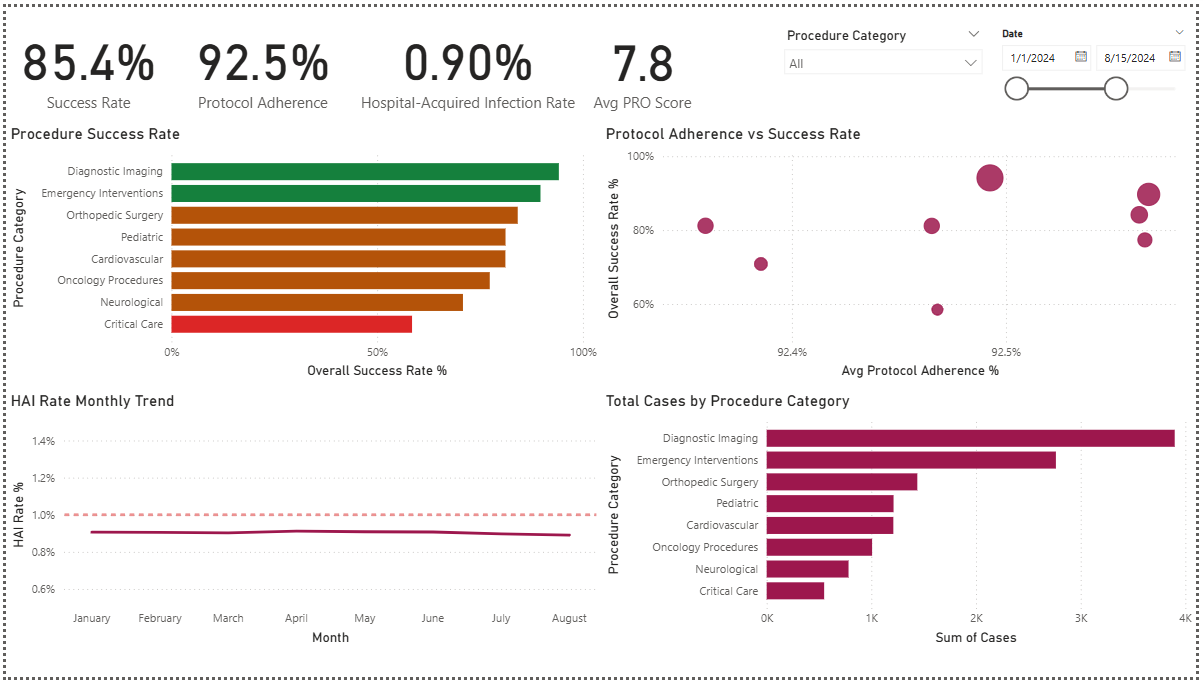

Layout of this report page (visuals, bound fields, positions):
{"tool":"powerbi","page":{"name":"Clinical Quality","canvas":[1280,720],"ordinal":2},"visuals":[{"type":"slicer","fields":{"Values":["Daily_KPIs.Date"]},"box":[1059.1,16.9,221.3,94.6],"z":0},{"type":"slicer","fields":{"Values":["Patient_Outcomes_Daily.Procedure Category"]},"box":[826,16.9,233.1,92.9],"z":1000},{"type":"card","fields":{"Values":["_Measures.Overall Success Rate %"]},"box":[0,0,177.4,126.7],"z":2000},{"type":"card","fields":{"Values":["_Measures.Avg Protocol Adherence %"]},"box":[192.6,0,165.5,126.7],"z":3000},{"type":"card","fields":{"Values":["_Measures.HAI Rate %"]},"box":[375,0,243.2,126.7],"z":4000},{"type":"card","fields":{"Values":["_Measures.Avg PRO Score"]},"box":[618.2,1.7,131.8,125],"z":5000},{"type":"clusteredBarChart","title":"Procedure Success Rate","fields":{"Category":["Patient_Outcomes_Daily.Procedure Category"],"Y":["_Measures.Overall Success Rate %"]},"box":[0,126.7,640.2,277],"z":6000},{"type":"scatterChart","title":"Protocol Adherence vs Success Rate","fields":{"X":["_Measures.Avg Protocol Adherence %"],"Y":["_Measures.Overall Success Rate %"],"Category":["Patient_Outcomes_Daily.Procedure Category"],"Size":["Sum(Patient_Outcomes_Daily.Cases)"]},"box":[640.2,126.7,640.2,277],"z":7000},{"type":"lineChart","title":"HAI Rate Monthly Trend","fields":{"Category":["Daily_KPIs.Date.Variation.Date Hierarchy.Month"],"Y":["_Measures.HAI Rate %"]},"box":[0,414,640,277],"z":8000},{"type":"clusteredBarChart","title":"Total Cases by Procedure Category","fields":{"Category":["Patient_Outcomes_Daily.Procedure Category"],"Y":["Sum(Patient_Outcomes_Daily.Cases)"]},"box":[640,414,640,277],"z":9000}]}

Visuals, with their boxes in screenshot pixels (x1, y1, x2, y2), scaled from the page's 1280x720 canvas onto the 1203x685 screenshot:
slicer - Daily_KPIs.Date: [995,16,1202,106]
slicer - Patient_Outcomes_Daily.Procedure Category: [776,16,995,104]
card - _Measures.Overall Success Rate %: [0,0,167,121]
card - _Measures.Avg Protocol Adherence %: [181,0,337,121]
card - _Measures.HAI Rate %: [352,0,581,121]
card - _Measures.Avg PRO Score: [581,2,705,121]
"Procedure Success Rate" clusteredBarChart: [0,121,602,384]
"Protocol Adherence vs Success Rate" scatterChart: [602,121,1202,384]
"HAI Rate Monthly Trend" lineChart: [0,394,602,657]
"Total Cases by Procedure Category" clusteredBarChart: [602,394,1202,657]
